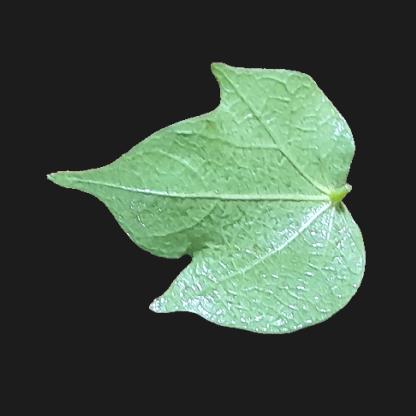healthy: (202, 116, 328, 272), (228, 269, 306, 327)
